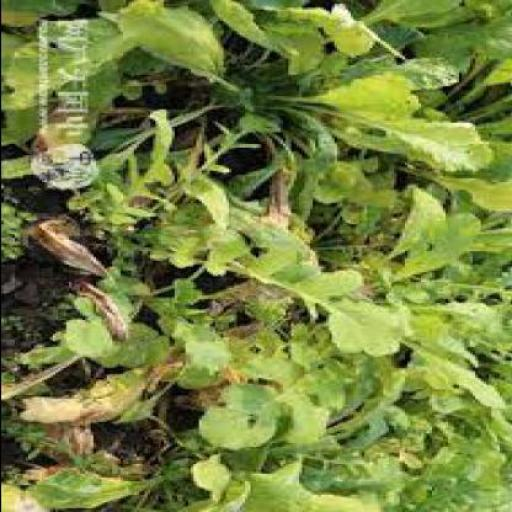biodegradable: (1, 303, 511, 512), (64, 111, 384, 338), (114, 2, 493, 172), (325, 195, 511, 363), (2, 255, 184, 418), (384, 56, 511, 216), (2, 2, 133, 153), (79, 465, 383, 511), (325, 1, 511, 74), (3, 199, 33, 251)
